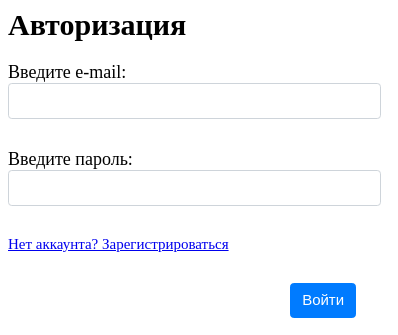
Test: Test validation fields in form login.
Click the button "Войти". click: (323, 301)
box: [290, 283, 356, 318]
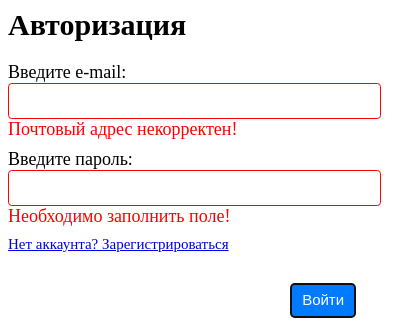
Expected: the text "Необходимо заполнить поле!" is shown, [8, 206, 230, 226]
